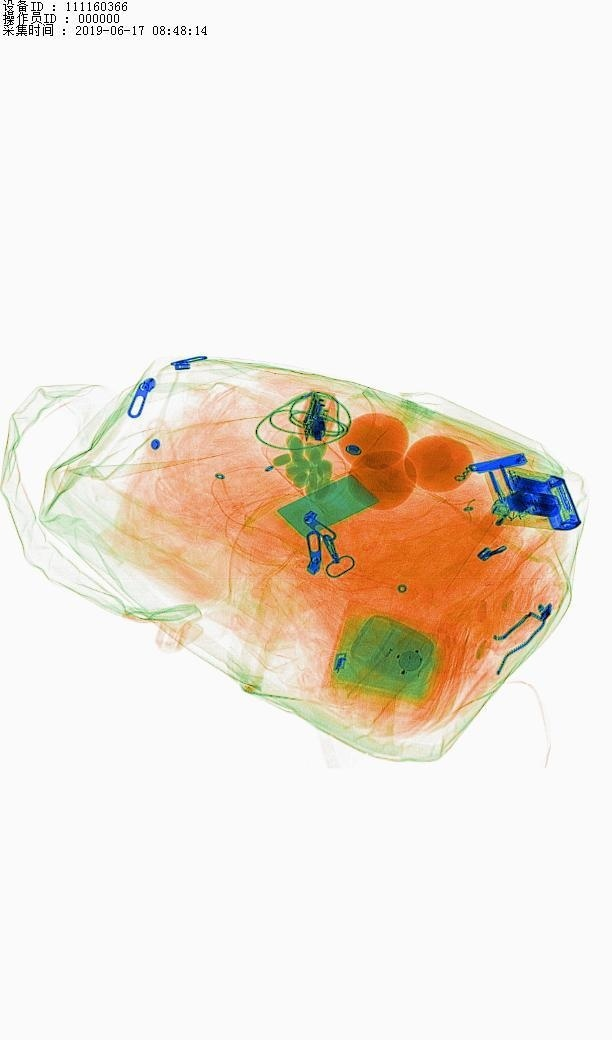NonmetallicFire: (467, 491, 525, 567)
